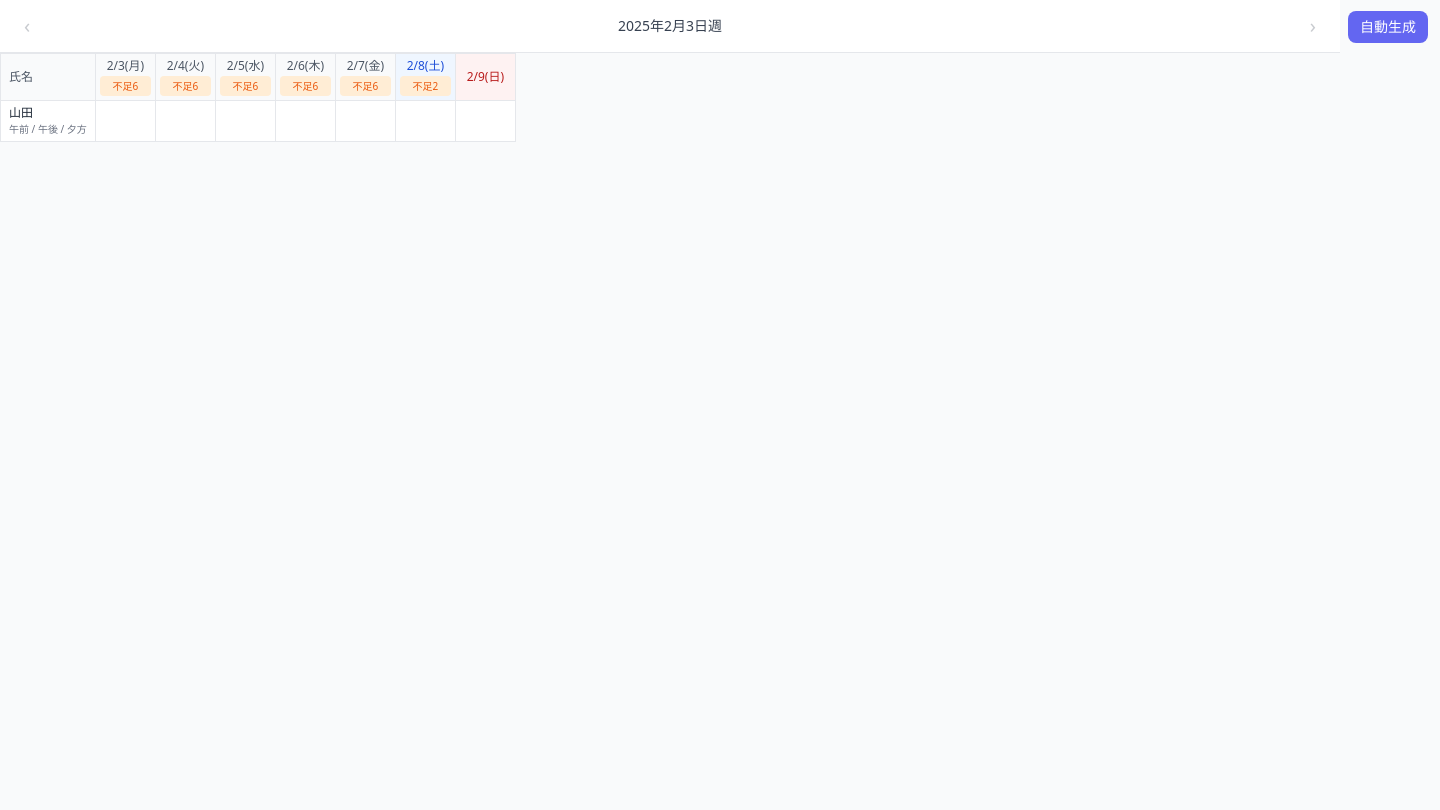
ShiftPage › 自動生成後通知 › 自動生成後に不足がある場合は不足一覧が表示される
Click the button "自動生成": click(1388, 26) [1348, 10, 1428, 42]
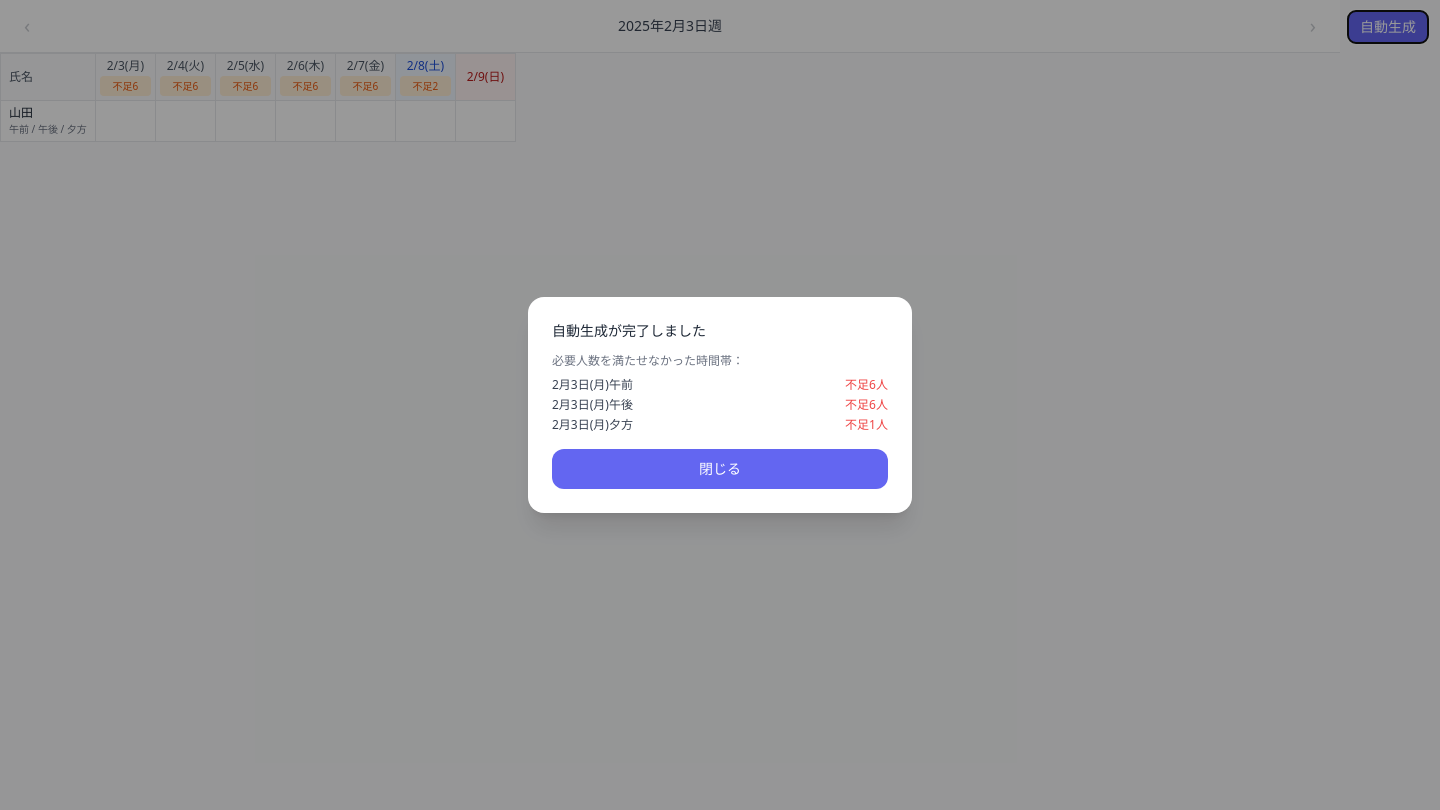
Now the dialog is shown
Now the 1st text "不足6人" is shown, box [845, 377, 888, 393]
